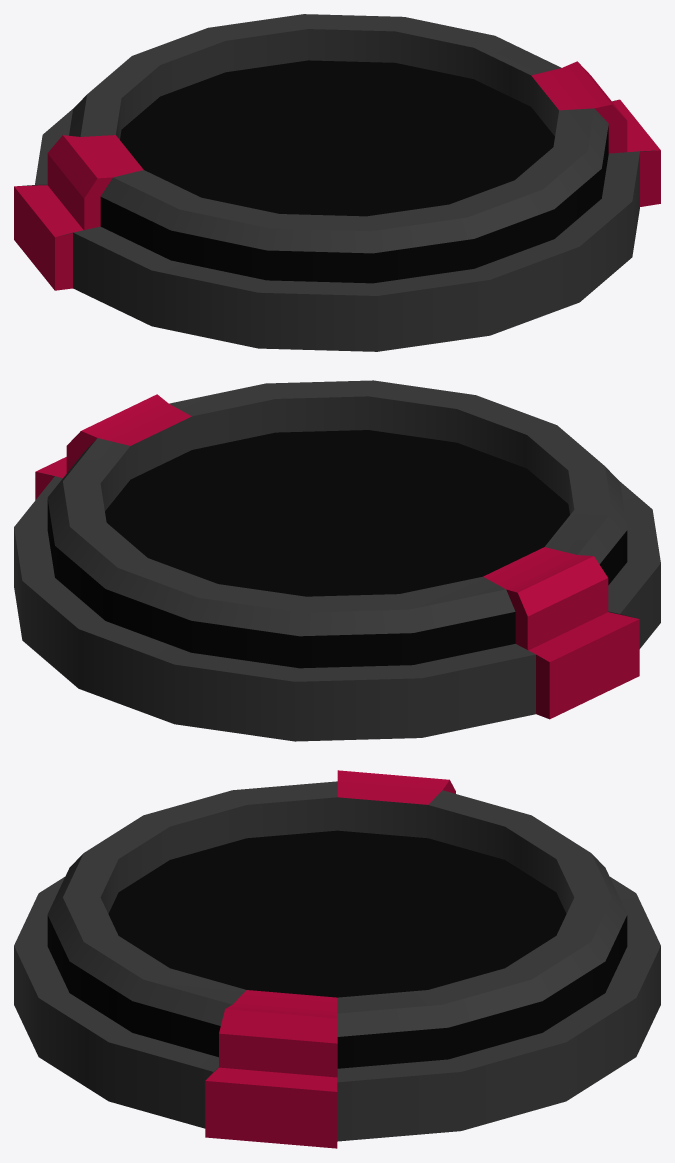
File: TurretBase.fbx
3 renders of one model, top to bottom at view 1: azimuth 30°, elevation 25°; view 2: azimuth 150°, elevation 25°; view 3: azimuth 270°, elevation 25°, orthographic. The views are drawn at different scales.
Visible parts, largest first — view 1: Base.001; view 2: Base.001; view 3: Base.001.
Part boxes in pixels (x1,y1,x2,y2): Base.001: [14, 14, 660, 351]; Base.001: [14, 380, 660, 741]; Base.001: [14, 770, 660, 1148].
Size of the model in its own units: 398 by 70.18 by 373.
